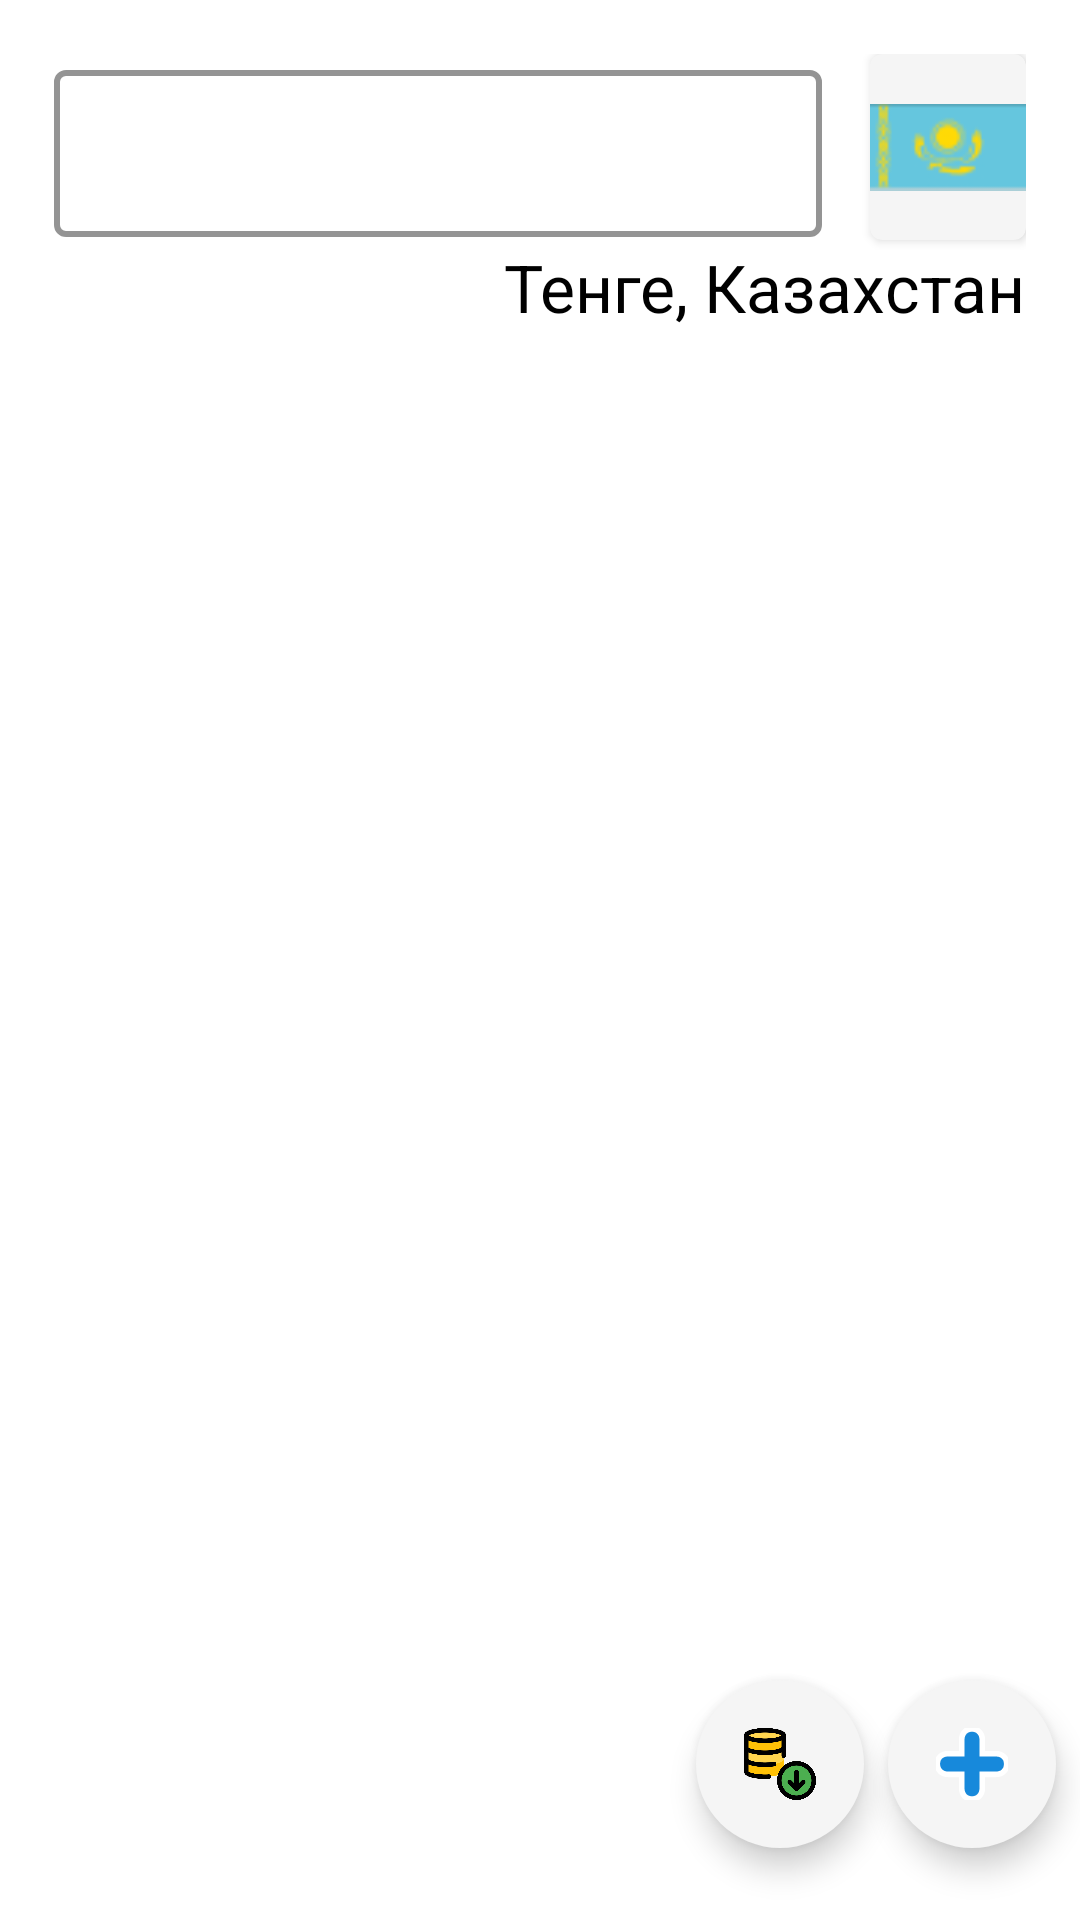

Where icons sit on this 1080px×1920px app screen, as {"left": x1, "top": y1, "right": x2, "bottom": y2}:
add currency: {"left": 888, "top": 1680, "right": 1056, "bottom": 1848}
add to db: {"left": 696, "top": 1680, "right": 864, "bottom": 1848}
Currency Flag: {"left": 870, "top": 104, "right": 1026, "bottom": 191}
